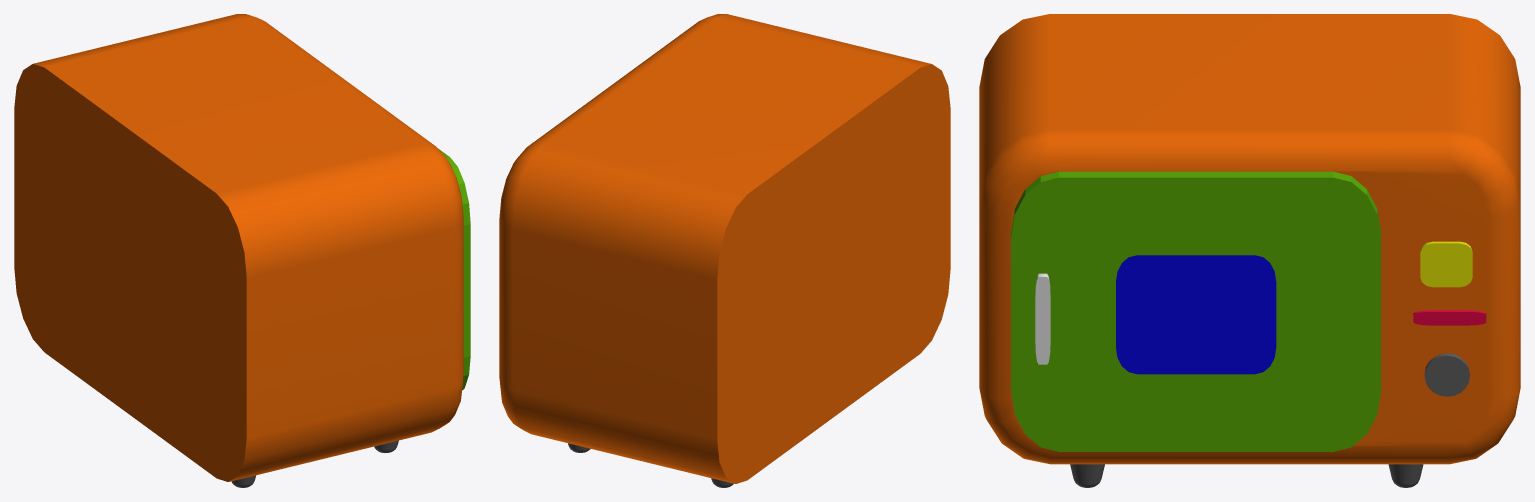
File: microwave.fbx
3 views of the same model, side by side, from view 1: azimuth 30°, elevation 25°; view 2: azimuth 150°, elevation 25°; view 3: azimuth 270°, elevation 25° (orthographic). The views are drawn at different scales.
Parts seen in each view (by area): view 1: pCube13; view 2: pCube13; view 3: pCube13, pCube14, pCylinder1, pCube16, pCube15, pCylinder3, pCylinder2.
Boxes of the visible parts, box(x1,y1,x2,y2) form: pCube13: box(14, 14, 470, 481); pCube13: box(499, 14, 950, 483); pCube13: box(979, 14, 1520, 464); pCube14: box(1420, 241, 1472, 287); pCylinder1: box(1424, 353, 1469, 396); pCube16: box(1035, 273, 1050, 364); pCube15: box(1413, 310, 1486, 325); pCylinder3: box(1388, 464, 1423, 487); pCylinder2: box(1070, 464, 1104, 487).
Size of the model in its own units: 5.77 by 7.12 by 9.56.
